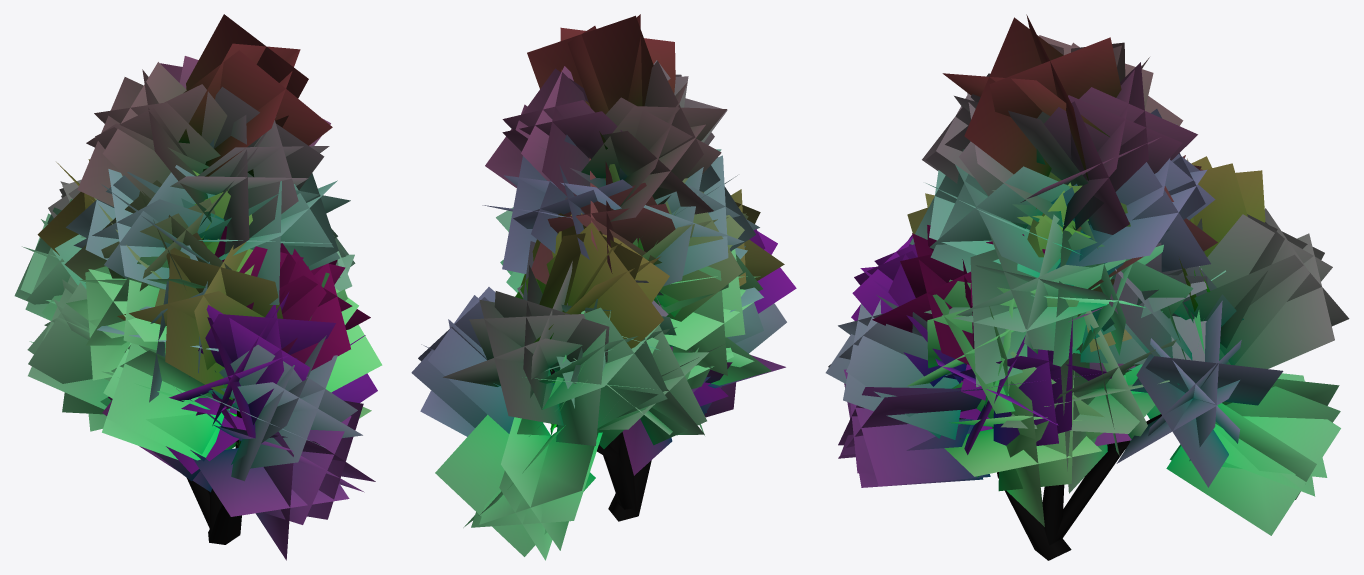
Rendered from M_P6_Tree_10.fbx.
3 views of the same model, side by side, from view 1: azimuth 30°, elevation 25°; view 2: azimuth 150°, elevation 25°; view 3: azimuth 270°, elevation 25° (orthographic). The views are drawn at different scales.
Visible parts, largest first — view 1: Tree_10; view 2: Tree_10; view 3: Tree_10.
Boxes of the visible parts, x1=… form: Tree_10: x1=14, y1=14, x2=382, y2=560; Tree_10: x1=411, y1=14, x2=796, y2=560; Tree_10: x1=825, y1=14, x2=1349, y2=560.
Bounding box in the file's own units: 408 × 713 × 630.
